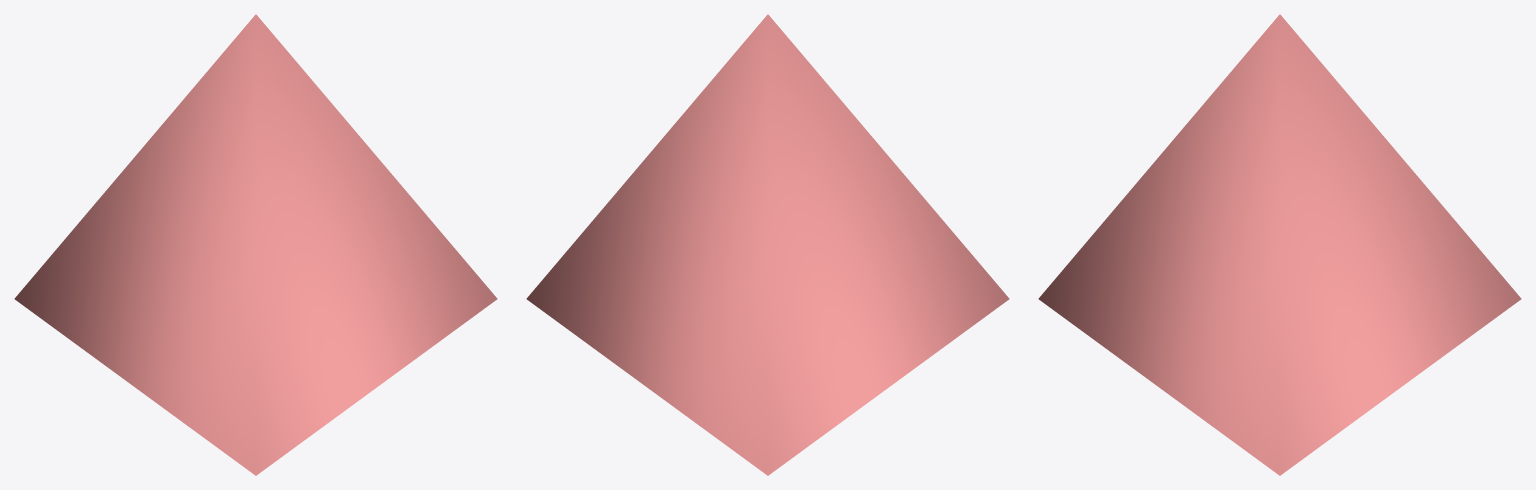
Rendered from Modé_Gemme_Brut_Rouge.FBX.
The picture shows the model from 3 angles, left to right: view 1: azimuth 30°, elevation 25°; view 2: azimuth 150°, elevation 25°; view 3: azimuth 270°, elevation 25°; orthographic projection.
Parts seen in each view (by area): view 1: Gemme brut rouge; view 2: Gemme brut rouge; view 3: Gemme brut rouge.
Boxes of the visible parts, x1=… form: Gemme brut rouge: x1=14, y1=14, x2=497, y2=475; Gemme brut rouge: x1=526, y1=14, x2=1009, y2=475; Gemme brut rouge: x1=1038, y1=14, x2=1521, y2=475.
Bounding box in the file's own units: 20.37 × 18.47 × 23.52.
